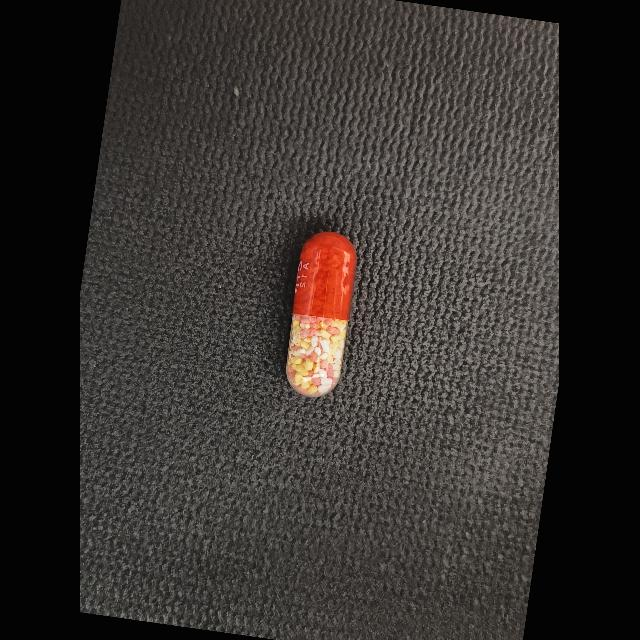Intact Capsule: (286, 232, 357, 397)
